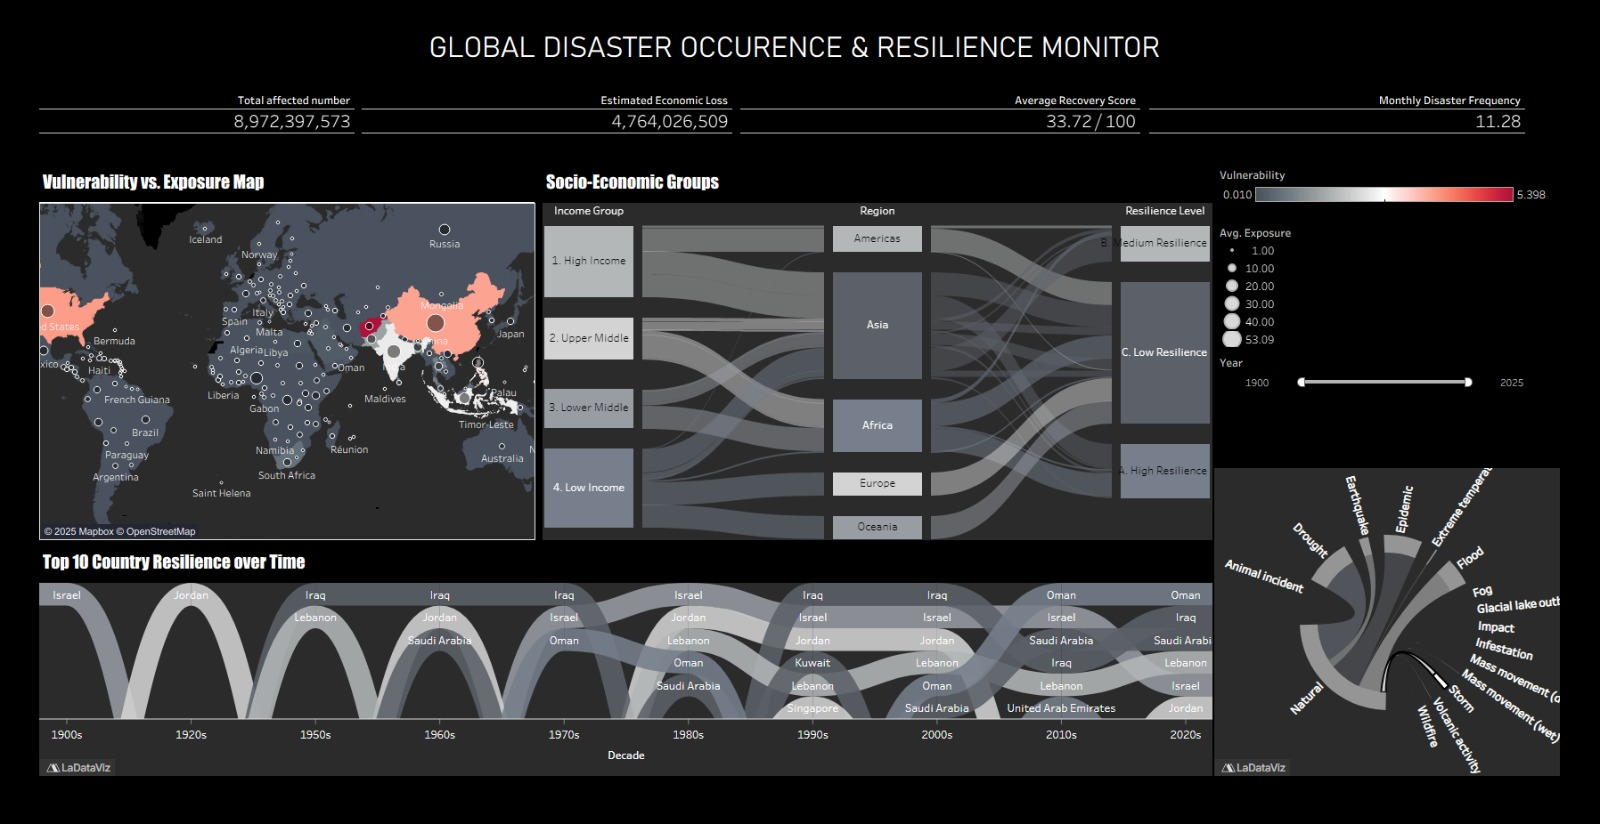

Layout of this report page (visuals, bound fields, positions):
{"tool":"tableau","page":{"name":"Dashboard 1","canvas":[1720,880],"ordinal":0},"visuals":[{"type":"text","box":[8,8,1704,86]},{"type":"worksheet","title":"Sheet 7","mark":"Text","cols":["Calculation_1156299217252487173"],"box":[8,94,362,86]},{"type":"worksheet","title":"Sheet 7 (2)","mark":"Text","cols":["Calculation_1156299217261019144"],"box":[370,94,425,86]},{"type":"worksheet","title":"Sheet 7 (3)","mark":"Text","cols":["Calculation_1156299217261543435"],"box":[795,94,458.5,86]},{"type":"worksheet","title":"Sheet 7 (4)","mark":"Text","cols":["Calculation_1156299217269575699"],"box":[1253.5,94,458.5,86]},{"type":"worksheet","title":"Vulnerability vs. Exposure Map","mark":"Multipolygon","box":[8,180,565.5,427]},{"type":"worksheet","title":"Socio-Economic Groups","box":[573.5,180,759.5,427]},{"type":"legend","title":"Vulnerability vs. Exposure Map","param":"[federated.0tcswix1v8r4w91h0q0lr0uhur06].[sum:vulnerability:qk]","box":[1333,180,379,73]},{"type":"legend","title":"Vulnerability vs. Exposure Map","param":"[federated.0tcswix1v8r4w91h0q0lr0uhur06].[avg:exposure:qk]","box":[1333,253,379,156]},{"type":"filter","title":"Top 10 Country Resilience over Time","param":"[federated.0tcswix1v8r4w91h0q0lr0uhur06].[none:year:qk]","box":[1333,409,379,55]},{"type":"worksheet","title":"Disaster Types Flow","box":[1331,522,388,346]},{"type":"worksheet","title":"Top 10 Country Resilience over Time","box":[8,607,1325,265]}]}

Visuals, with their boxes in screenshot pixels (x1, y1, x2, y2), scaled from the page's 1720x880 canvas onto the 1600x824 screenshot:
text: crop(7, 7, 1593, 88)
"Sheet 7" worksheet (Text marks): crop(7, 88, 344, 169)
"Sheet 7 (2)" worksheet (Text marks): crop(344, 88, 740, 169)
"Sheet 7 (3)" worksheet (Text marks): crop(740, 88, 1166, 169)
"Sheet 7 (4)" worksheet (Text marks): crop(1166, 88, 1593, 169)
"Vulnerability vs. Exposure Map" worksheet (Multipolygon marks): crop(7, 169, 533, 568)
"Socio-Economic Groups" worksheet: crop(533, 169, 1240, 568)
"Vulnerability vs. Exposure Map" legend: crop(1240, 169, 1593, 237)
"Vulnerability vs. Exposure Map" legend: crop(1240, 237, 1593, 383)
"Top 10 Country Resilience over Time" filter: crop(1240, 383, 1593, 434)
"Disaster Types Flow" worksheet: crop(1238, 489, 1599, 813)
"Top 10 Country Resilience over Time" worksheet: crop(7, 568, 1240, 817)
